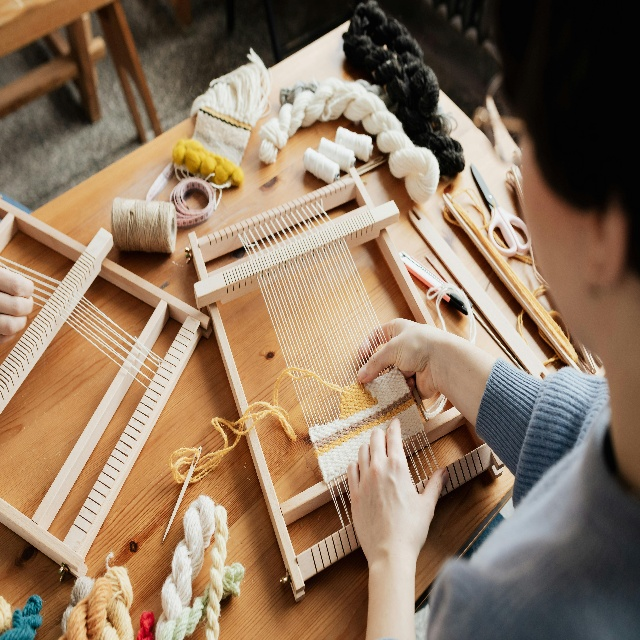Sin_guantes: (347, 416, 449, 558), (356, 318, 440, 399)
